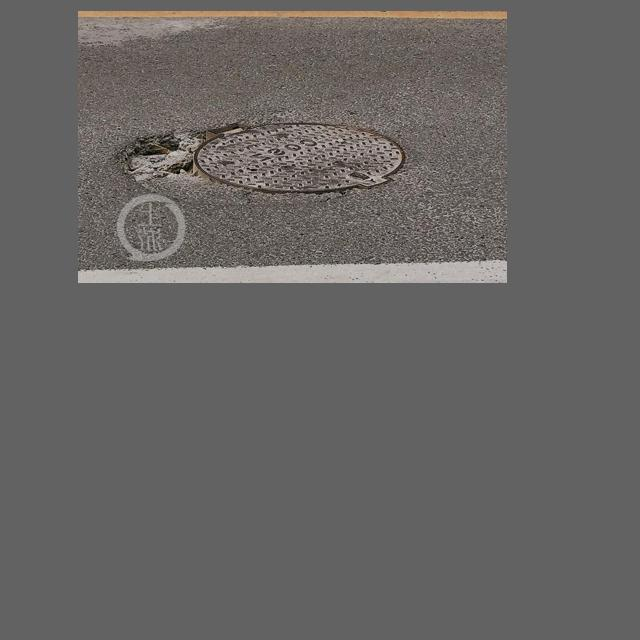circle: (109, 118, 410, 202)
